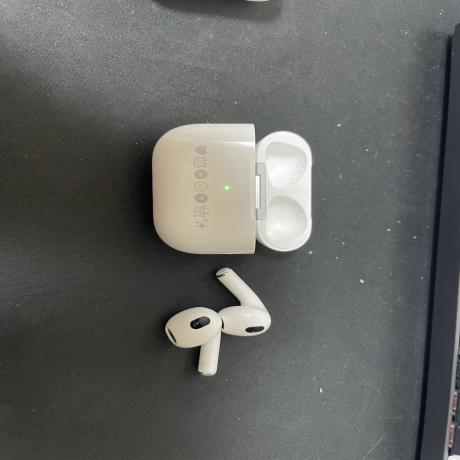airpod3: (138, 114, 319, 377)
